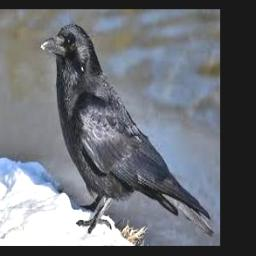Crow: (41, 23, 215, 238)
